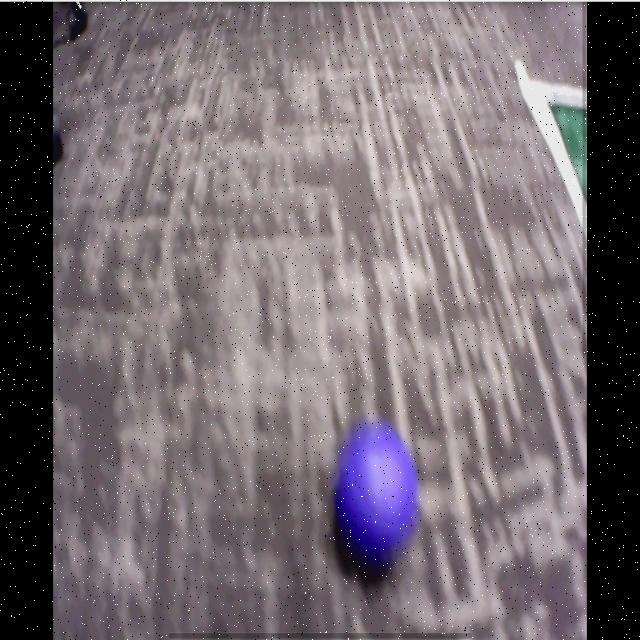ball: (337, 424, 417, 559)
